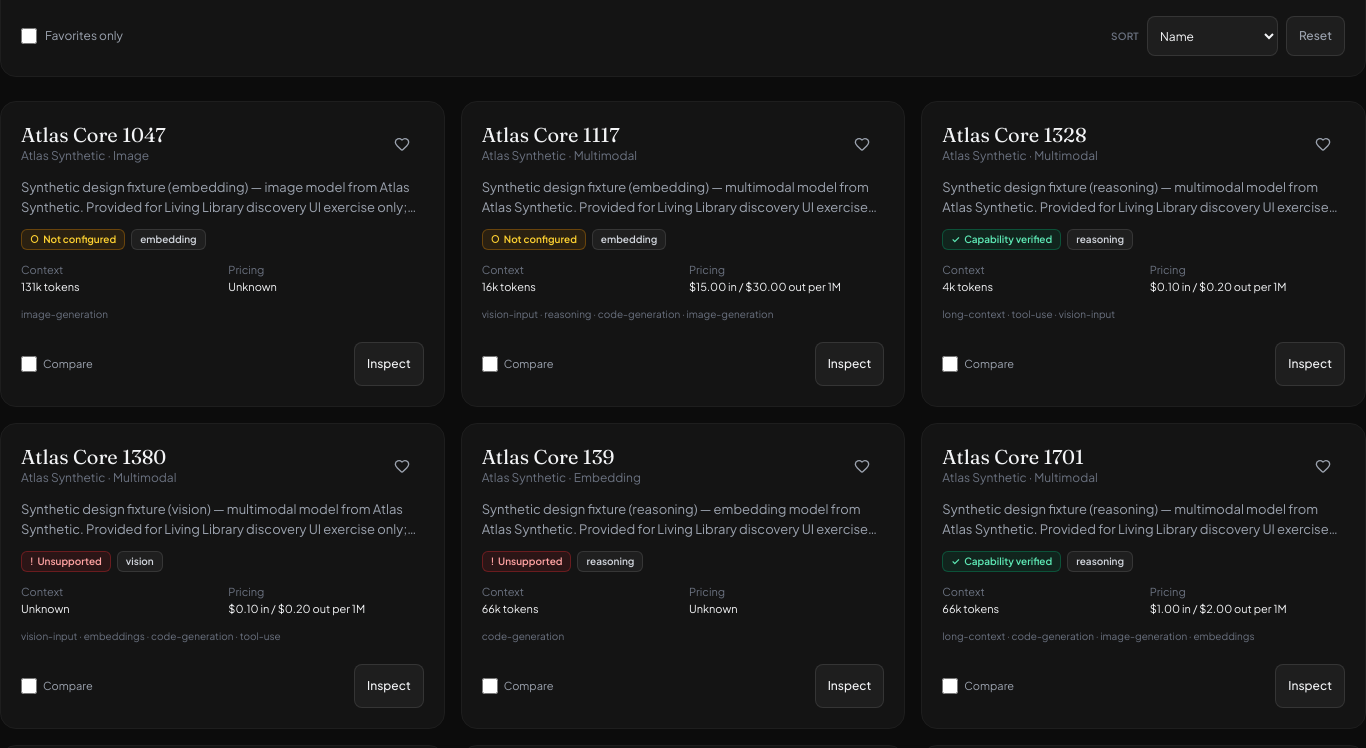
Scenario: Living Library (UD-2C) › inspector shows exact id, provider, context, pricing, readiness, compatibility, disabled apply
(page scrolled)
Click the button "Inspect" below "Atlas Core 1047": (389, 364) [354,342,424,386]
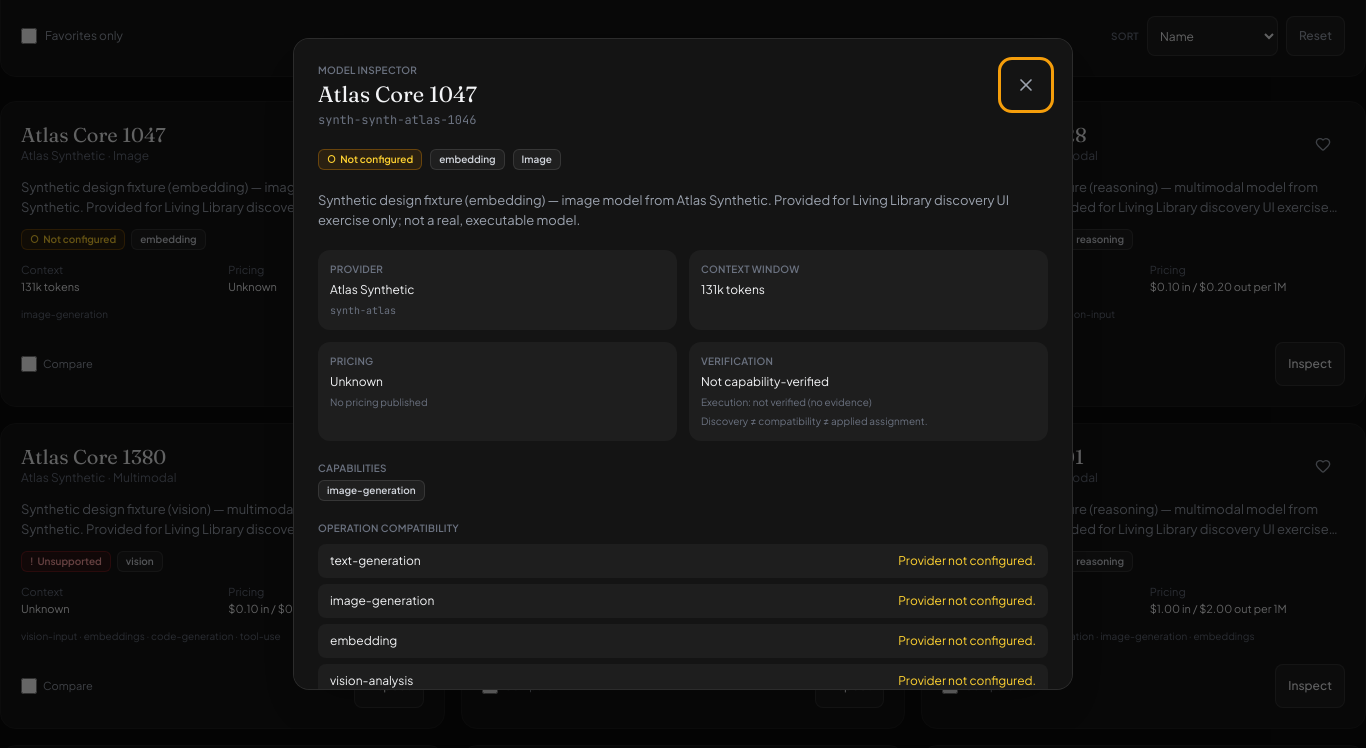
Now the dialog shows "Model inspector", box [318,64,417,76]
Now the dialog shows "synth-", box [318,112,476,128]
